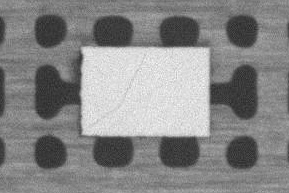DIE_CRACK: (82, 52, 146, 130)
